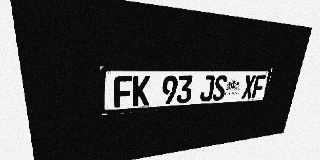3: (176, 75, 193, 103)
9: (161, 75, 178, 104)
F: (114, 76, 132, 108), (252, 75, 266, 98)
J: (199, 75, 215, 102)
K: (132, 76, 150, 106)
S: (212, 75, 228, 101)
X: (241, 75, 256, 99)
